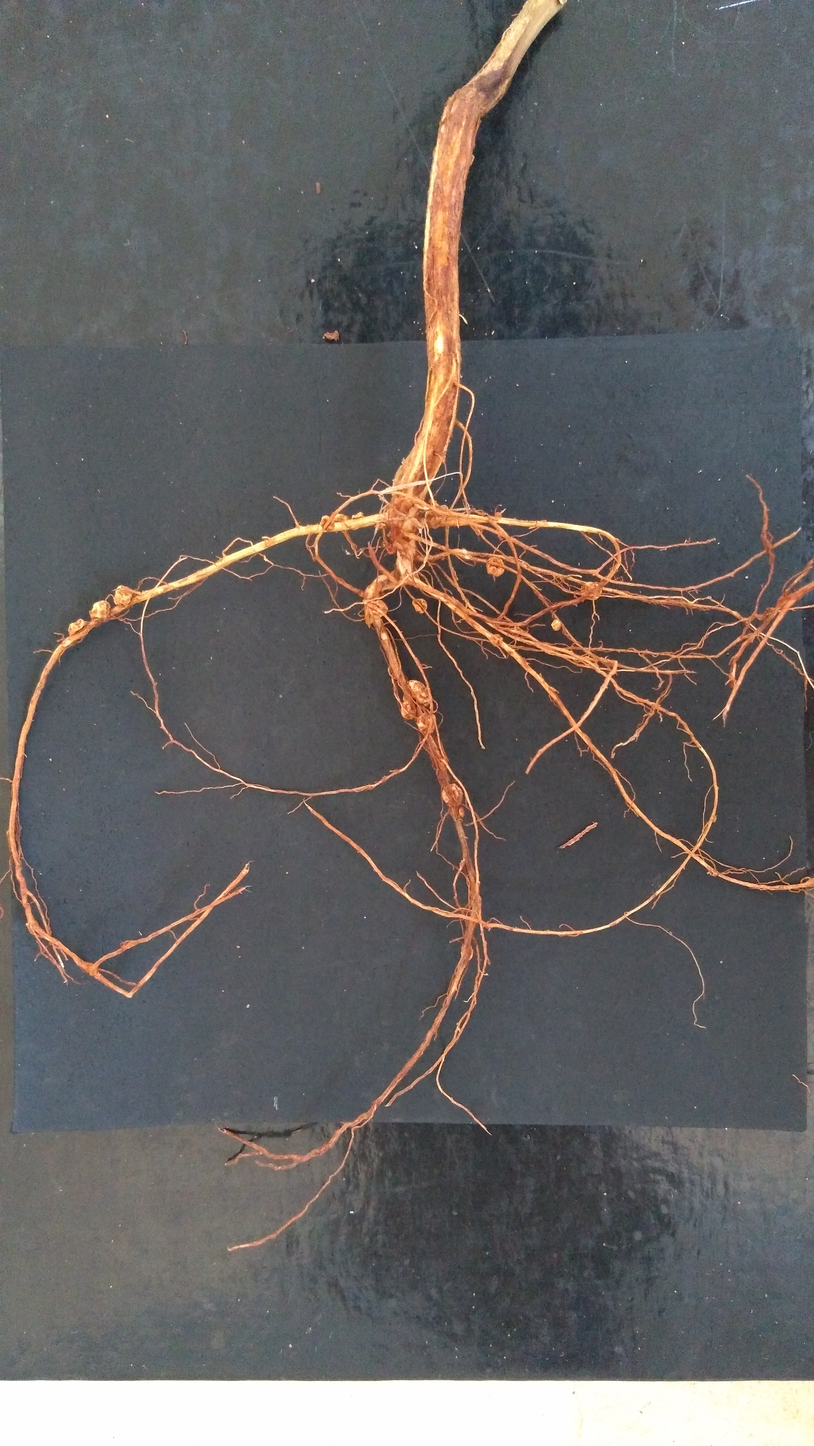nodule: (389, 495, 420, 543), (403, 680, 433, 706), (364, 583, 382, 624), (424, 505, 449, 529), (441, 783, 463, 806), (68, 619, 88, 643), (114, 585, 134, 606), (89, 601, 110, 620), (417, 712, 436, 733), (581, 581, 602, 600), (368, 600, 388, 618), (486, 557, 504, 576), (419, 499, 439, 516), (401, 701, 416, 720), (320, 515, 335, 531), (402, 518, 419, 532), (412, 598, 427, 613), (461, 943, 473, 960), (491, 634, 503, 646), (261, 536, 274, 546), (335, 514, 350, 522), (374, 574, 388, 582), (551, 619, 561, 630), (509, 627, 519, 637), (386, 545, 396, 554), (352, 512, 364, 519), (475, 526, 483, 536), (498, 530, 505, 541), (458, 806, 464, 817), (494, 512, 502, 518), (462, 548, 467, 554), (464, 555, 470, 560)
